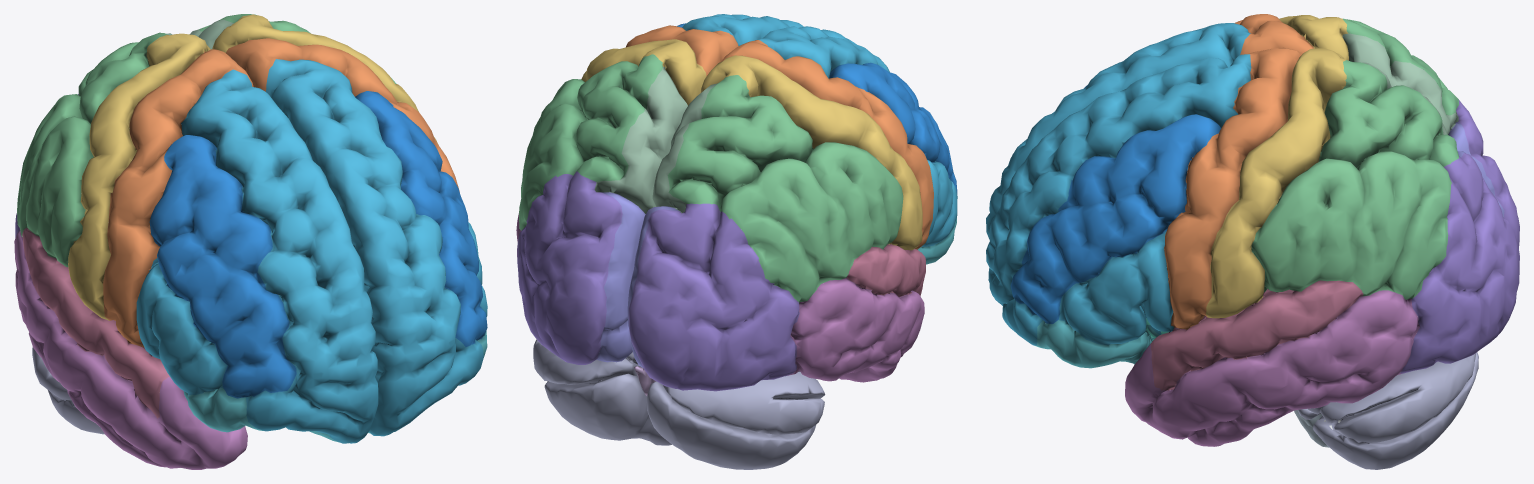
File: cortex-brain-v6-mobile-1a53452d83.glb
3 renders of one model, left to right at view 1: azimuth 30°, elevation 25°; view 2: azimuth 150°, elevation 25°; view 3: azimuth 270°, elevation 25°, orthographic. The views are drawn at different scales.
Visible parts, largest first — view 1: Cortex_frontal_R, Cortex_frontal_L, Cortex_dlpfc_R, Cortex_temporal_R, Cortex_motor_R, Cortex_parietal_R, Cortex_somatosensory_R, Cortex_dlpfc_L, Cortex_auditory_R, Cortex_motor_L, Cortex_somatosensory_L, Cortex_ofc_R (+2 smaller); view 2: Cortex_parietal_R, Cortex_occipital_R, Cerebellar_hemispheres, Cortex_occipital_L, Cortex_parietal_L, Cortex_temporal_R, Cortex_somatosensory_R, Cortex_motor_R, Cortex_precuneus_L, Cortex_frontal_R, Cortex_dlpfc_R, Cortex_visual_L (+7 smaller); view 3: Cortex_parietal_L, Cortex_frontal_L, Cortex_temporal_L, Cortex_dlpfc_L, Cortex_occipital_L, Cortex_motor_L, Cortex_somatosensory_L, Cerebellar_hemispheres, Cortex_auditory_L, Cortex_frontal_R, Cortex_ofc_L, Cortex_precuneus_R (+5 smaller).
Boxes of the visible parts, bbox=[...] form: Cortex_frontal_R: bbox=[136, 69, 378, 443]; Cortex_frontal_L: bbox=[265, 59, 487, 436]; Cortex_dlpfc_R: bbox=[149, 135, 296, 398]; Cortex_temporal_R: bbox=[14, 230, 247, 469]; Cortex_motor_R: bbox=[103, 49, 253, 347]; Cortex_parietal_R: bbox=[17, 32, 167, 267]; Cortex_somatosensory_R: bbox=[68, 33, 210, 320]; Cortex_dlpfc_L: bbox=[355, 91, 487, 346]; Cortex_auditory_R: bbox=[22, 228, 170, 418]; Cortex_motor_L: bbox=[226, 38, 459, 192]; Cortex_somatosensory_L: bbox=[212, 14, 438, 144]; Cortex_ofc_R: bbox=[183, 387, 339, 442]; Cortex_parietal_R: bbox=[667, 75, 903, 302]; Cortex_occipital_R: bbox=[628, 203, 799, 391]; Cerebellar_hemispheres: bbox=[533, 339, 825, 469]; Cortex_occipital_L: bbox=[517, 171, 622, 364]; Cortex_parietal_L: bbox=[519, 54, 662, 230]; Cortex_temporal_R: bbox=[788, 277, 924, 382]; Cortex_somatosensory_R: bbox=[701, 55, 922, 250]; Cortex_motor_R: bbox=[721, 40, 933, 249]; Cortex_precuneus_L: bbox=[594, 66, 687, 213]; Cortex_frontal_R: bbox=[757, 26, 957, 246]; Cortex_dlpfc_R: bbox=[829, 62, 957, 194]; Cortex_visual_L: bbox=[596, 192, 645, 362]; Cortex_parietal_L: bbox=[1251, 60, 1458, 299]; Cortex_frontal_L: bbox=[986, 54, 1251, 345]; Cortex_temporal_L: bbox=[1125, 290, 1419, 446]; Cortex_dlpfc_L: bbox=[1010, 114, 1220, 323]; Cortex_occipital_L: bbox=[1400, 153, 1519, 373]; Cortex_motor_L: bbox=[1164, 47, 1302, 329]; Cortex_somatosensory_L: bbox=[1206, 48, 1346, 318]; Cerebellar_hemispheres: bbox=[1297, 352, 1478, 469]; Cortex_auditory_L: bbox=[1150, 280, 1363, 390]; Cortex_frontal_R: bbox=[986, 23, 1250, 240]; Cortex_ofc_L: bbox=[1035, 320, 1159, 368]; Cortex_precuneus_R: bbox=[1342, 33, 1458, 134].
Size of the model in its own units: 5.11 by 5.38 by 6.4.
